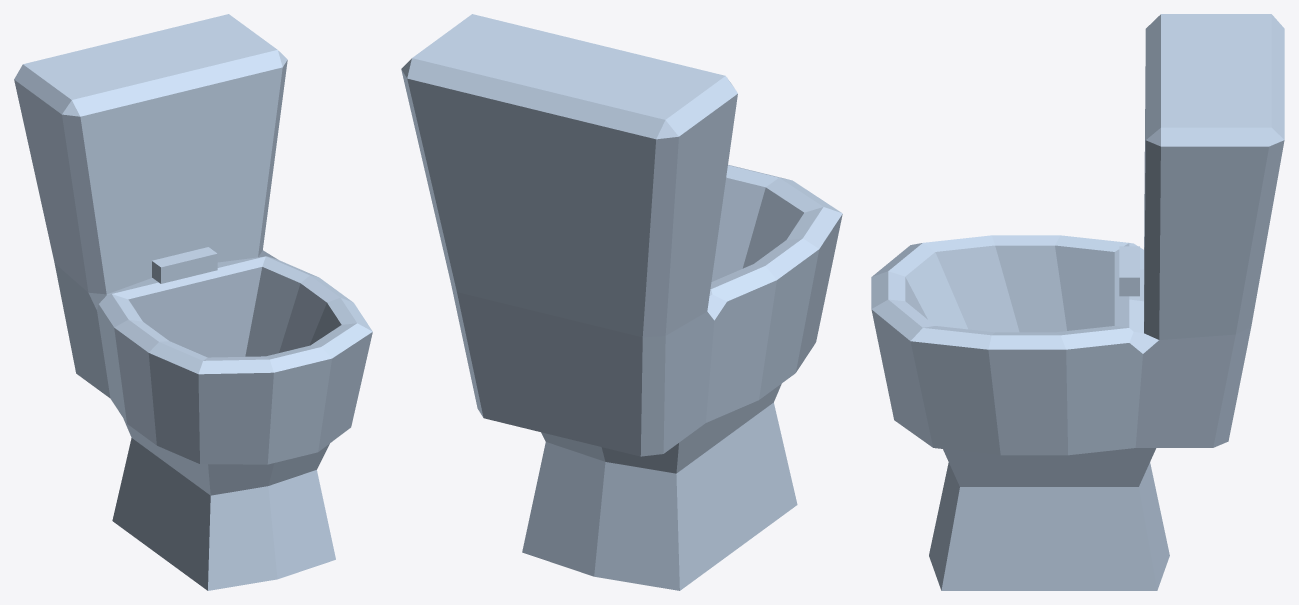
Rendered from toilet.fbx.
3 renders of one model, left to right at view 1: azimuth 30°, elevation 25°; view 2: azimuth 150°, elevation 25°; view 3: azimuth 270°, elevation 25°, orthographic. The views are drawn at different scales.
Visible parts, largest first — view 1: Cube.062; view 2: Cube.062; view 3: Cube.062.
Boxes of the visible parts, x1,y1,x2,y2 form: Cube.062: (14, 14, 372, 590); Cube.062: (401, 14, 842, 590); Cube.062: (871, 14, 1284, 590).
Size of the model in its own units: 139 by 252 by 195.
